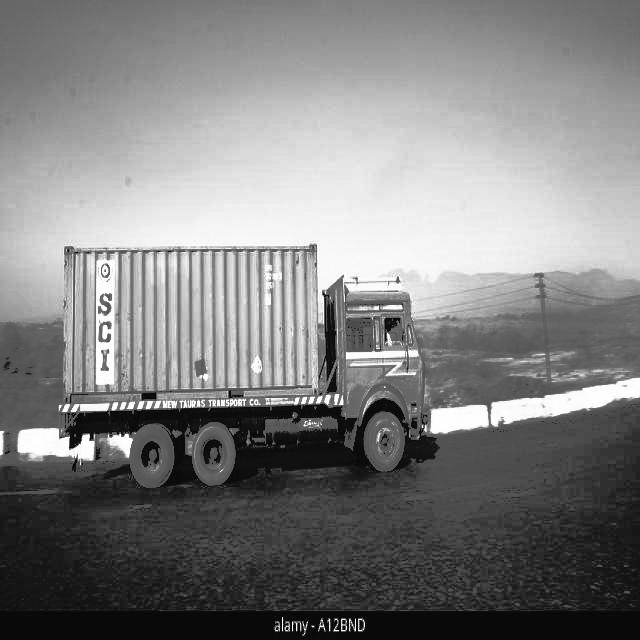HCV: (48, 225, 442, 495)
